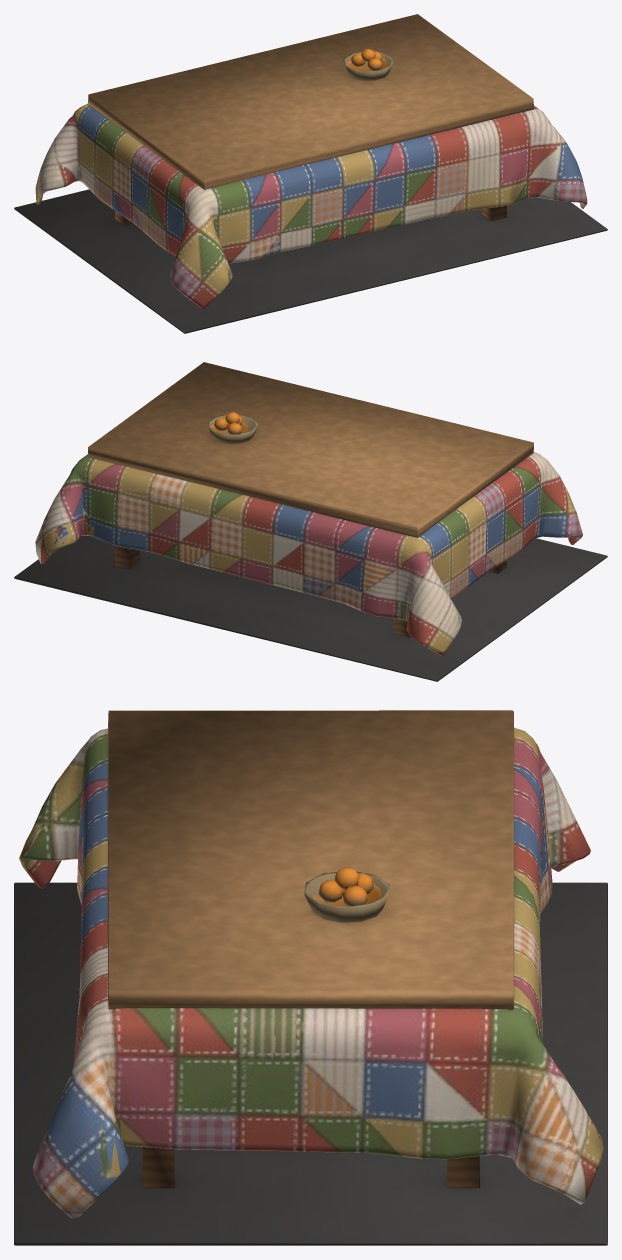
Rendered from kotatsu_lodge_patch.glb.
3 renders of one model, top to bottom at view 1: azimuth 30°, elevation 25°; view 2: azimuth 150°, elevation 25°; view 3: azimuth 270°, elevation 25°, orthographic. The views are drawn at different scales.
Parts seen in each view (by area): view 1: prop_kotatsu_lodge_patch_felt, prop_kotatsu_lodge_patch_wood; view 2: prop_kotatsu_lodge_patch_felt, prop_kotatsu_lodge_patch_wood; view 3: prop_kotatsu_lodge_patch_felt, prop_kotatsu_lodge_patch_wood.
Part boxes in pixels (x1,y1,x2,y2): prop_kotatsu_lodge_patch_felt: (14,49,607,333); prop_kotatsu_lodge_patch_wood: (88,14,533,225); prop_kotatsu_lodge_patch_felt: (14,412,607,681); prop_kotatsu_lodge_patch_wood: (88,362,533,637); prop_kotatsu_lodge_patch_felt: (14,727,607,1245); prop_kotatsu_lodge_patch_wood: (108,710,513,1188).
Size of the model in its own units: 3 by 0.9901 by 2.09.
3 materials, 3 textured.
